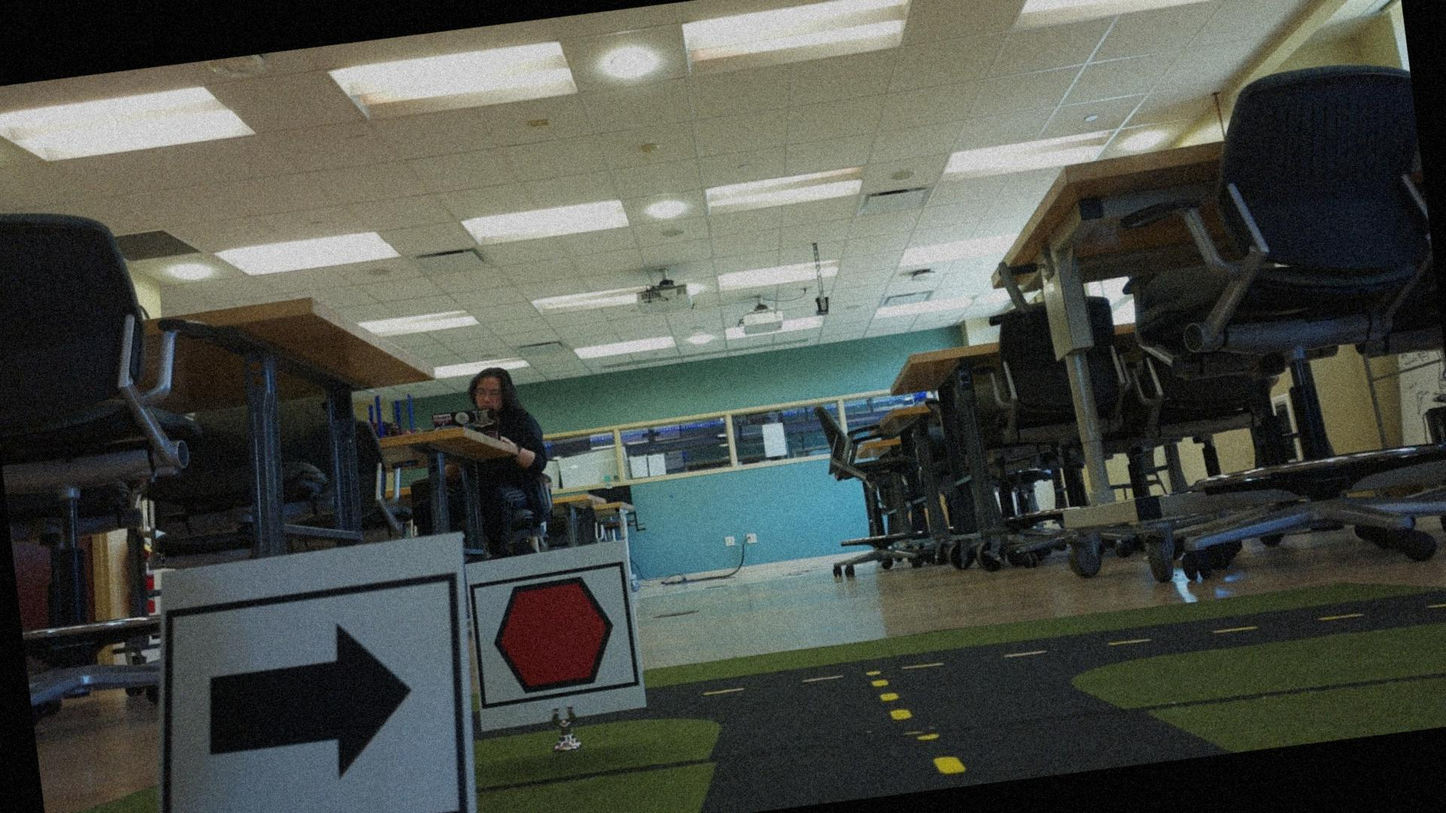stop: (474, 566, 634, 706)
turnright: (161, 582, 471, 812)
yellowline: (872, 668, 963, 783)
